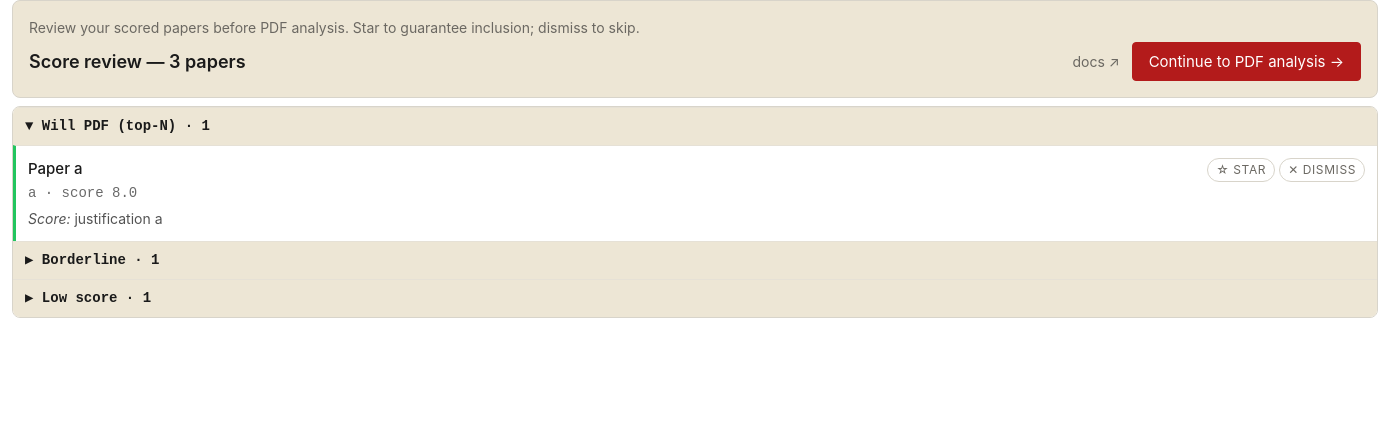
Test case: ScoreReviewSurface › expanding borderline group reveals its rows
Expected: the text "Paper b" is not shown
Click the button "▶ Borderline · 1".
click(84, 260)  # box [13,240,1377,278]
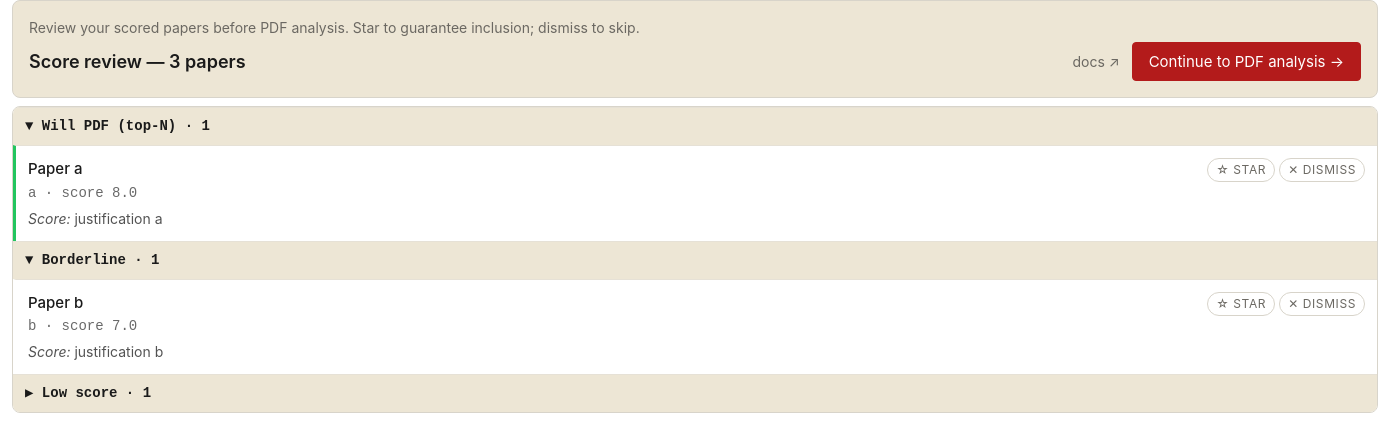
Expected: the text "Paper b" is shown, [28,292,83,312]
